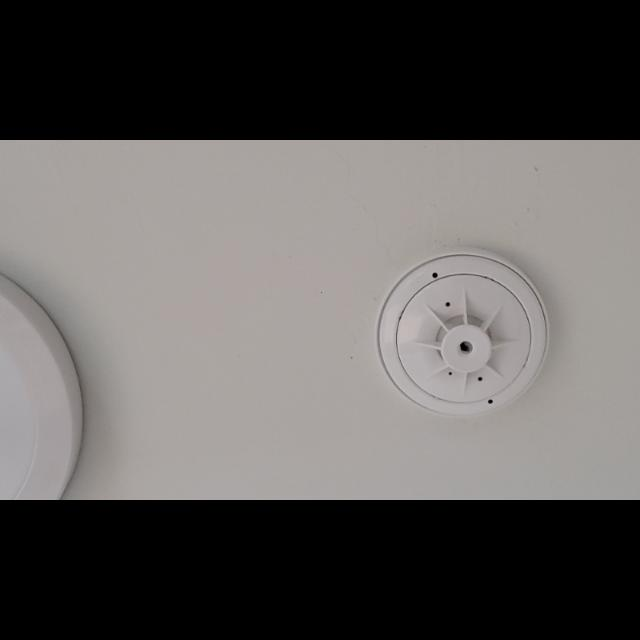Smoke-Detector: (375, 250, 551, 420)
